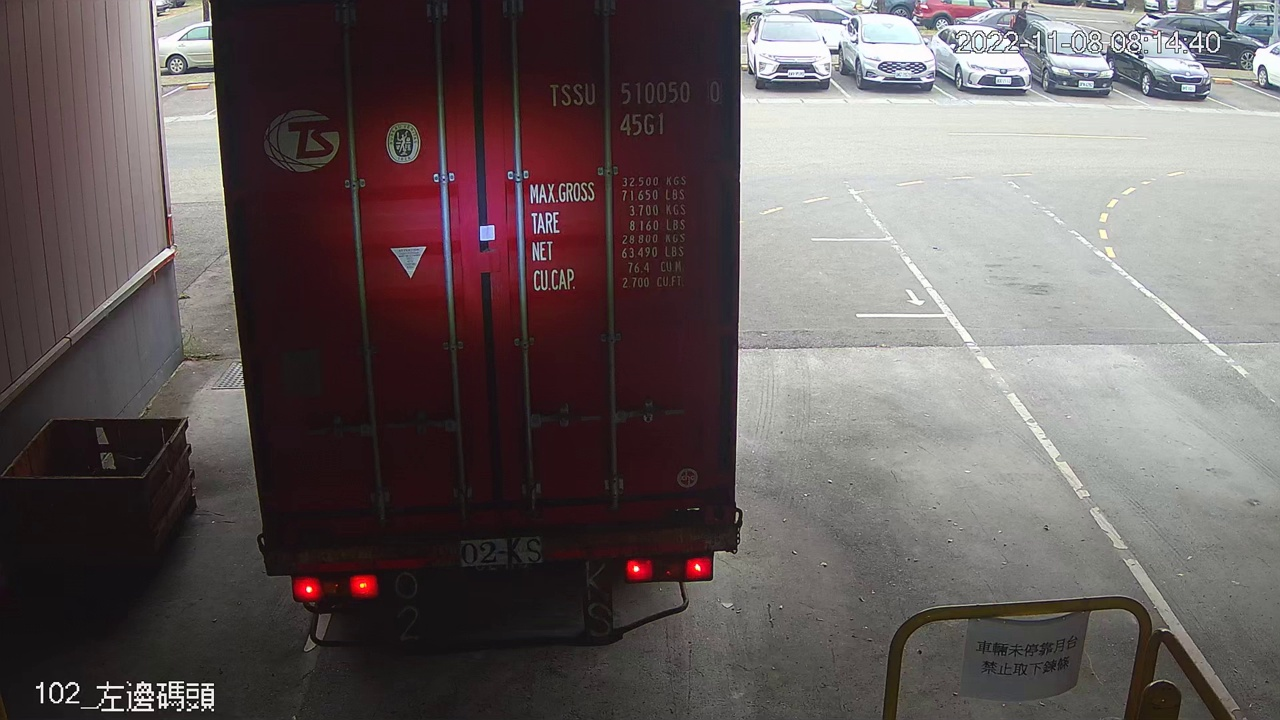container: (542, 73, 727, 145)
